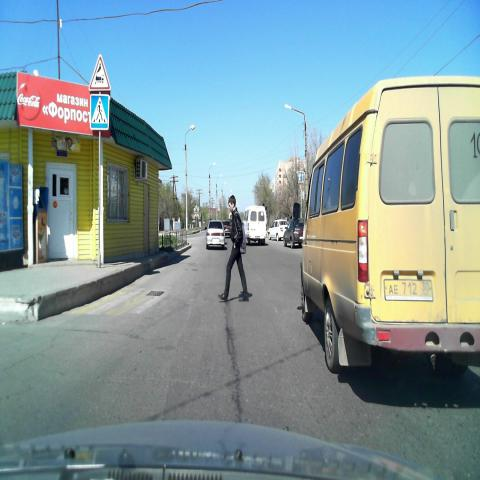1_2: (89, 55, 110, 92)
